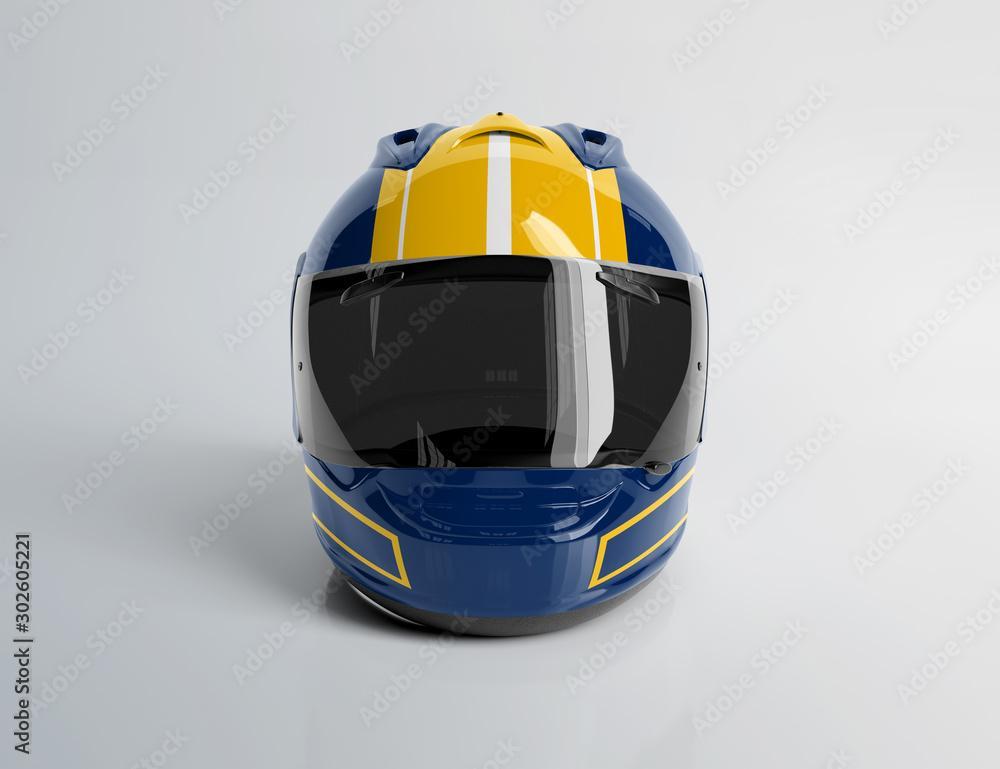helmet: (287, 108, 713, 642)
